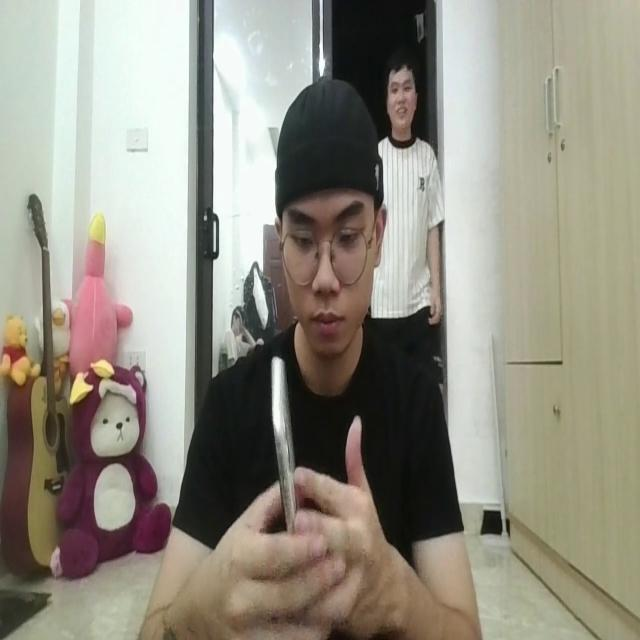extra_person: (377, 69, 445, 352)
phone: (267, 353, 306, 548)
student: (170, 75, 469, 640)
